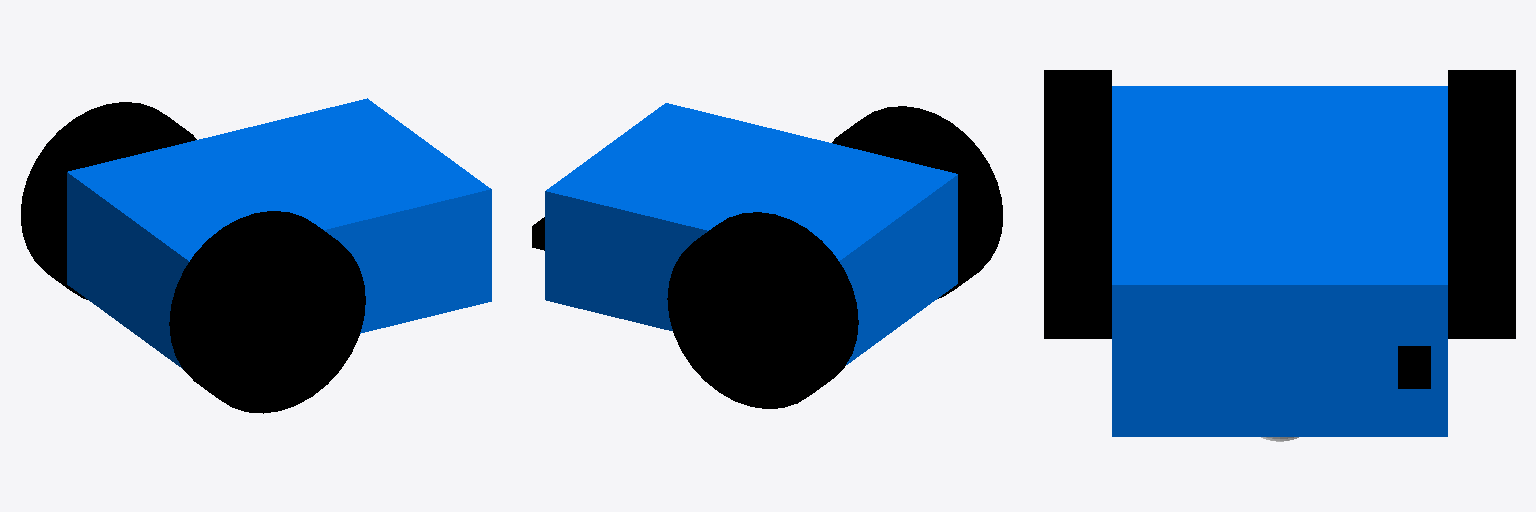
URDF robot description (dd_robot):
<?xml version='1.0'?>
<robot name="dd_robot">

<!-- Base Link -->
<link name="base_link">
	<visual>
		<origin xyz="0 0 0" rpy="0 0 0" />
		<geometry>
			<box size="0.7 0.5 0.25"/>
		</geometry>
		<material name="blue">
			<color rgba="0 0.5 1 1"/>
		</material>
	</visual>
	<collision>
		<origin xyz="0 0 0" rpy="0 0 0" />
		<geometry>
			<box size="0.7 0.5 0.25"/>
		</geometry>
	</collision>
	<inertial>
		<mass value="5"/>
		<inertia ixx="0.13" ixy="0.0" ixz="0.0" iyy="0.21" iyz="0.0" izz="0.13"/>
	</inertial>


	<!-- Caster -->
	<visual name="caster">
		<material name="black">
			<color rgba="1 1 1 1"/>
		</material>
		<origin xyz="0.2 0 -0.125" rpy="0 0 0" />
		<geometry>
			<sphere radius="0.07" />
		</geometry>
	</visual>
	<collision>
		<origin xyz="0.2 0 -0.125" rpy="0 0 0" />
		<geometry>
			<sphere radius="0.07" />
		</geometry>
	</collision>
	<inertial>
		<mass value="0.5"/>
		<inertia ixx="0.0001" ixy="0.0" ixz="0.0" iyy="0.0001" iyz="0.0" izz="0.0001"/>
	</inertial>


</link>

<!-- Right Wheel -->
<link name="right_wheel">
	<visual>
		<material name="white">
			<color rgba="0 0 0 1"/>
		</material>
		<origin xyz="0 0 0" rpy="1.570795 0 0" />
		<geometry>
			<cylinder length="0.1" radius="0.2" />
		</geometry>
	</visual>
	<collision>
		<origin xyz="0 0 0" rpy="1.570795 0 0" />
		<geometry>
			<cylinder length="0.1" radius="0.2" />
		</geometry>
	</collision>
	<inertial>
		<mass value="0.5"/>
		<inertia ixx="0.01" ixy="0.0" ixz="0.0" iyy="0.005" iyz="0.0" izz="0.005"/>
	</inertial>

</link>
<joint name="joint_right_wheel" type="continuous">
	<parent link="base_link"/>
	<child link="right_wheel"/>
	<origin xyz="-0.2 -0.30 0" rpy="0 0 0" />
	<axis xyz="0 1 0" />
	<dynamics damping="0.7"/>
</joint>

<!-- Left Wheel -->
<link name="left_wheel">
	<visual>
	<material name="white"/>
	<origin xyz="0 0 0" rpy="1.570795 0 0" />
	<geometry>
		<cylinder length="0.1" radius="0.2" />
	</geometry>
	</visual>
	<collision>
		<origin xyz="0 0 0" rpy="1.570795 0 0" />
		<geometry>
			<cylinder length="0.1" radius="0.2" />
		</geometry>
	</collision>
	<inertial>
		<mass value="0.5"/>
		<inertia ixx="0.01" ixy="0.0" ixz="0.0" iyy="0.005" iyz="0.0" izz="0.005"/>
	</inertial>
</link>
<joint name="joint_left_wheel" type="continuous">
	<parent link="base_link"/>
	<child link="left_wheel"/>
	<origin xyz="-0.2 0.30 0" rpy="0 0 0" />
	<axis xyz="0 1 0" />
	<dynamics damping="0.7"/>
</joint>

<!-- Sensor link -->
<link name="sensor_mount">
	<visual>
		<material name="white"/>
		<origin xyz="0 0 0" rpy="0 0 0"/>
		<geometry>
			<box size="0.05 0.05 0.05"/>
		</geometry>
	</visual>
</link>
<joint name="mount_joint" type="fixed">
	<parent link="base_link"/>
	<child link="sensor_mount"/>
	<origin xyz="0.37 0.20 0" rpy="0 0 0"/>
</joint>
		

<!-- _______________________GAZEBO THINGS____________________ -->
<gazebo reference="base_link">
	<material>Gazebo/Blue</material>
</gazebo>
<gazebo reference="right_wheel">
	<material>Gazebo/Black</material>
</gazebo>
<gazebo reference="left_wheel">
	<material>Gazebo/Black</material>
</gazebo>


<gazebo>
  <plugin name="differential_drive_controller" filename="libgazebo_ros_diff_drive.so">
    <alwaysOn>true</alwaysOn>
    <updateRate>50</updateRate>
    <leftJoint>joint_left_wheel</leftJoint>
    <rightJoint>joint_right_wheel</rightJoint>
    <wheelSeparation>0.5</wheelSeparation>
    <wheelDiameter>0.2</wheelDiameter>
    <torque>15</torque>
    <commandTopic>cmd_vel</commandTopic>
    <odometryTopic>odom</odometryTopic>
    <odometryFrame>odom</odometryFrame>
    <robotBaseFrame>base_link</robotBaseFrame>
    <robotNamespace>ddrobot</robotNamespace>
  </plugin>
</gazebo>

<gazebo reference="sensor_mount">
   <sensor type="ray" name="TeraRanger">
      <pose>0 0 0 0 0 0</pose>
      <visualize>true</visualize>
      <update_rate>50</update_rate>
      <ray>
         <scan>
            <horizontal>
               <samples>10</samples>
               <resolution>1</resolution>
               <min_angle>-0.14835</min_angle>
               <max_angle>0.14835</max_angle>
            </horizontal>
            <vertical>
               <samples>10</samples>
               <resolution>1</resolution>
               <min_angle>-0.14835</min_angle>
               <max_angle>0.14835</max_angle>
            </vertical>
         </scan>
         <range>
            <min>0.01</min>
            <max>4</max>
            <resolution>0.02</resolution>
         </range>
      </ray>
      <plugin filename="libgazebo_ros_range.so" name="gazebo_ros_range">
         <gaussianNoise>0.005</gaussianNoise>
         <alwaysOn>true</alwaysOn>
         <updateRate>50</updateRate>
         <topicName>sensor/us_front</topicName>
         <frameName>sensor_mount</frameName>
         <radiation>ULTRASOUND</radiation>
         <fov>0.2967</fov>
      </plugin>
   </sensor>
   </gazebo>
</robot>

--- Facts derived from the render (not from the file) ---
3 views of the same robot in one strip: view 1: azimuth 30°, elevation 25°; view 2: azimuth 150°, elevation 25°; view 3: azimuth 270°, elevation 25° (orthographic).
Model dd_robot with 4 links and 3 joints (2 continuous, 1 fixed), rooted at base_link, posed all joints at 0.
Visible links, largest first — view 1: base_link, right_wheel, left_wheel; view 2: base_link, left_wheel, right_wheel; view 3: base_link, right_wheel, left_wheel, sensor_mount.
Boxes of the visible links, bbox=[...] form: base_link: bbox=[67, 98, 491, 368]; right_wheel: bbox=[169, 211, 365, 413]; left_wheel: bbox=[21, 102, 196, 299]; base_link: bbox=[545, 103, 957, 364]; left_wheel: bbox=[667, 212, 858, 408]; right_wheel: bbox=[832, 106, 1002, 298]; base_link: bbox=[1112, 86, 1447, 441]; right_wheel: bbox=[1044, 70, 1111, 338]; left_wheel: bbox=[1448, 70, 1515, 338]; sensor_mount: bbox=[1398, 346, 1430, 388].
Bounding box of the posed robot: 0.795 × 0.7 × 0.4 m (x, y, z).
Geometry: primitives only (box / cylinder / sphere), no mesh files.
